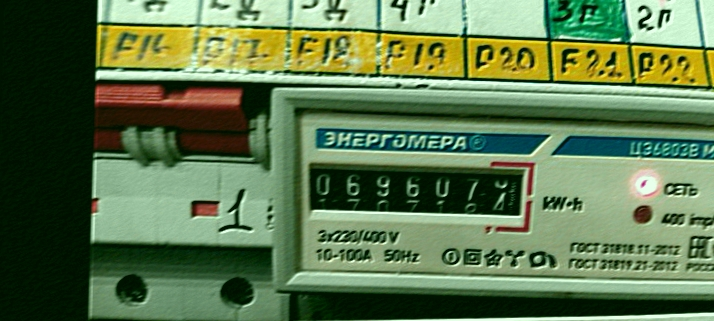0: (316, 170, 334, 195), (436, 172, 452, 197)
4: (493, 189, 509, 213)
6: (346, 171, 364, 196), (406, 172, 424, 197)
7: (466, 175, 482, 201)
9: (376, 172, 393, 197)
screen: (296, 148, 540, 229)
